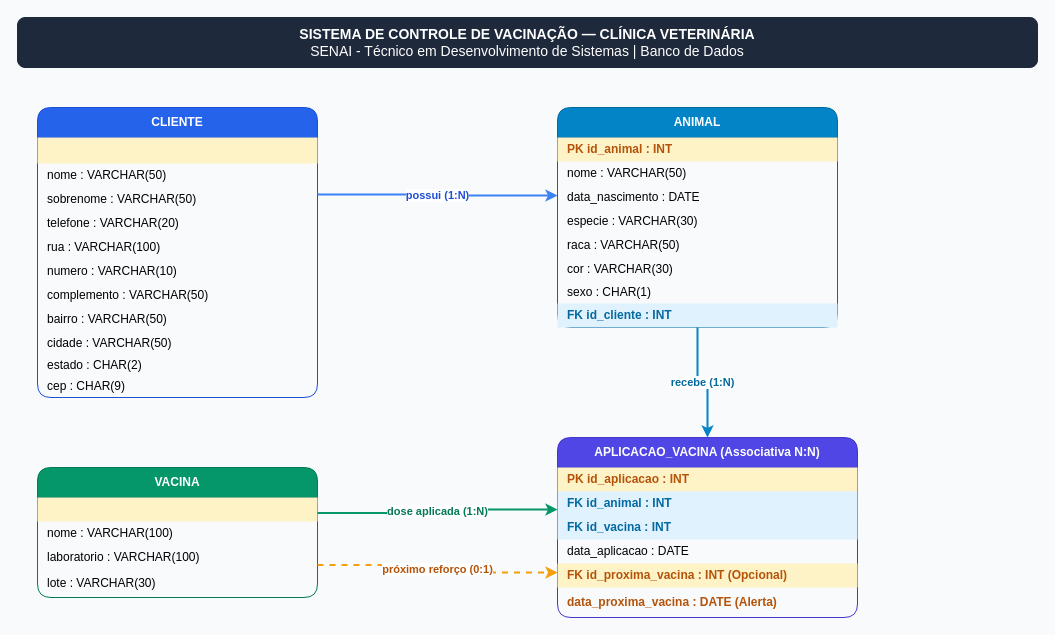
Image size: 1055x635. Some labels were removed from this diagram. Here are the shapes that lost their labels. From the top down, the centre of each, then its label:
At point 177,150: "PK id_cliente : INT".
At point 177,509: "PK id_vacina : INT".
